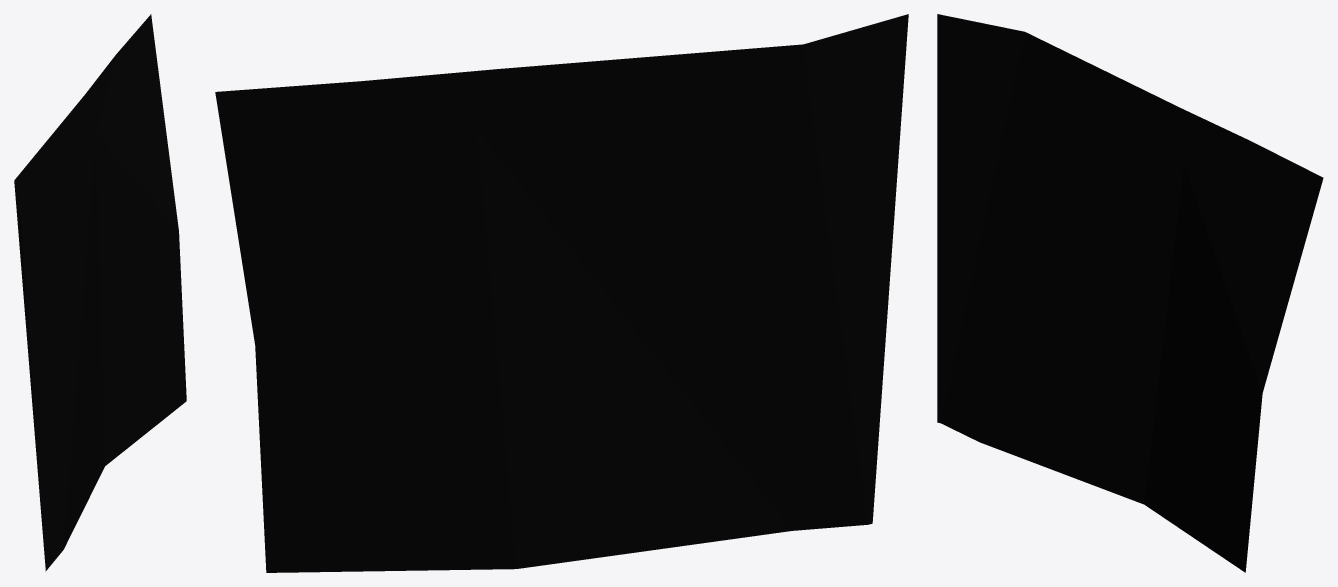
The picture shows the model from 3 angles, left to right: view 1: azimuth 30°, elevation 25°; view 2: azimuth 150°, elevation 25°; view 3: azimuth 270°, elevation 25°; orthographic projection. The views are drawn at different scales.
Bounding box in the file's own units: 2.62 × 2.95 × 2.61.
Materials: 3 (3 with a texture image).
